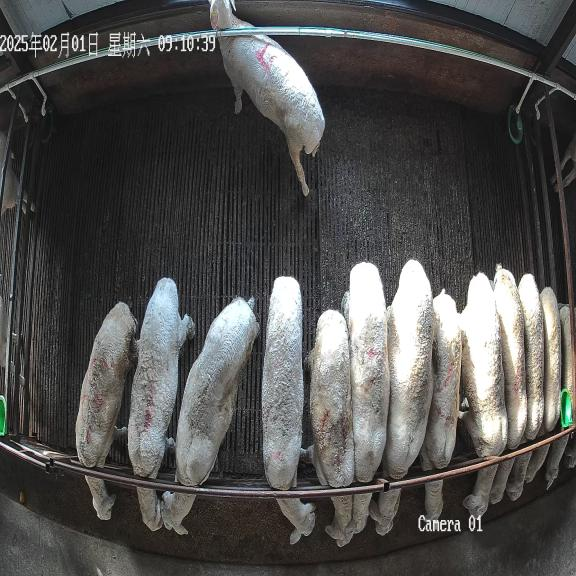eating: (160, 297, 259, 534), (369, 260, 433, 535), (128, 277, 195, 531), (299, 310, 360, 547), (262, 276, 315, 544), (342, 262, 390, 532), (458, 272, 508, 518), (487, 264, 528, 504), (419, 290, 461, 519), (505, 273, 544, 501), (524, 287, 561, 483)
stand: (210, 0, 325, 196), (75, 302, 138, 520)
